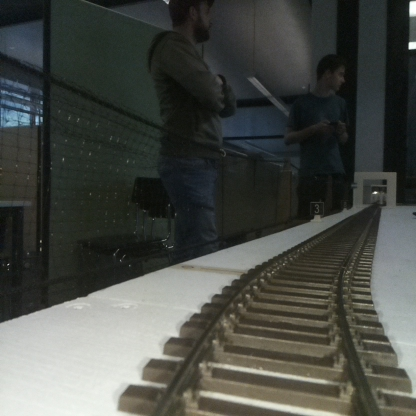black-stop-3: (310, 201, 324, 221)
black-stop-8: (341, 199, 348, 212)
